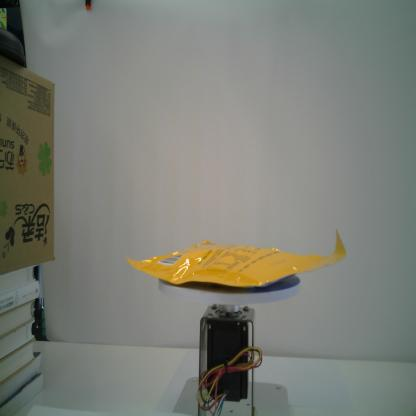Dried Fruit: (126, 227, 346, 289)
